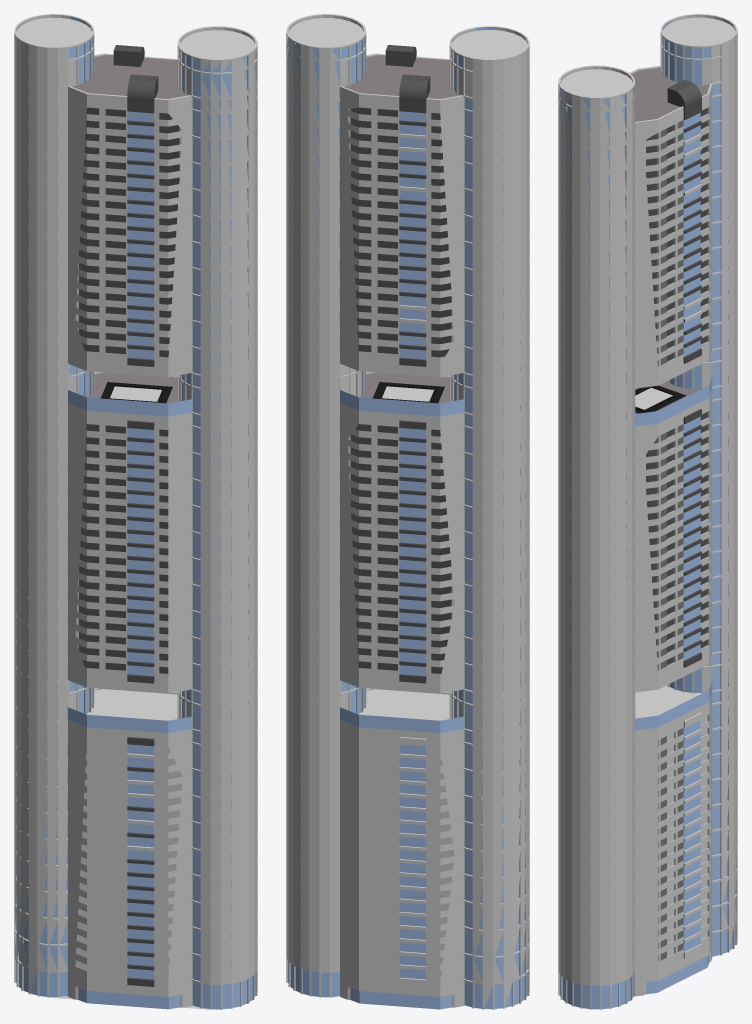
Rendered from Skyscraper8.fbx.
The picture shows the model from 3 angles, left to right: view 1: azimuth 30°, elevation 25°; view 2: azimuth 210°, elevation 25°; view 3: azimuth 270°, elevation 25°; orthographic projection. The views are drawn at different scales.
Visible parts, largest first — view 1: Mesh2258 Model; view 2: Mesh2258 Model; view 3: Mesh2258 Model.
Boxes of the visible parts, box(x1,y1,x2,y2) form: Mesh2258 Model: box(14, 14, 257, 1009); Mesh2258 Model: box(286, 14, 529, 1009); Mesh2258 Model: box(558, 14, 737, 1009).
Size of the model in its own units: 437 by 2214 by 394.
